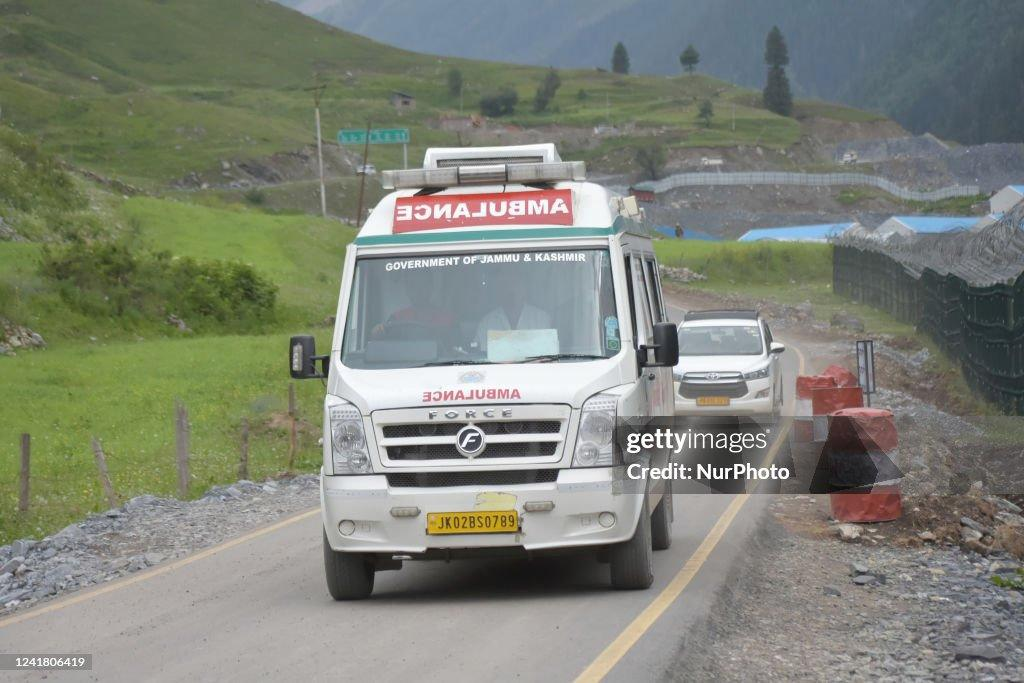ambulance: (354, 181, 593, 250)
